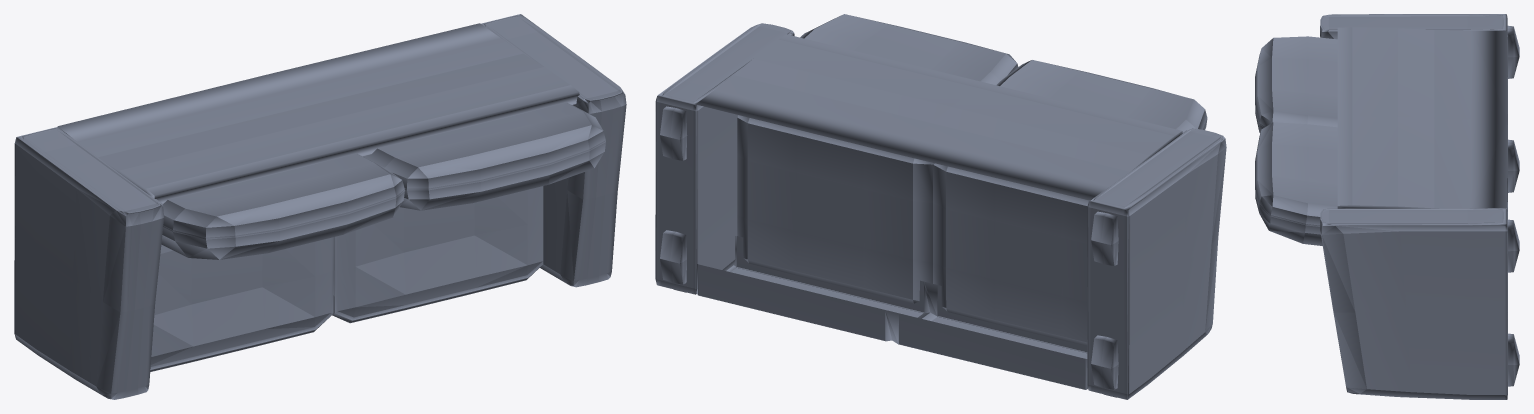
The model's file is MeshSofa_221_0.obj.
3 renders of one model, left to right at view 1: azimuth 30°, elevation 25°; view 2: azimuth 150°, elevation 25°; view 3: azimuth 270°, elevation 25°, orthographic. The views are drawn at different scales.
Parts seen in each view (by area): view 1: Sofa_221; view 2: Sofa_221; view 3: Sofa_221.
Boxes of the visible parts, x1,y1,x2,y2 form: Sofa_221: [14, 14, 626, 399]; Sofa_221: [655, 14, 1226, 399]; Sofa_221: [1255, 14, 1519, 399].
Size of the model in its own units: 1.67 by 0.6694 by 0.8744.
